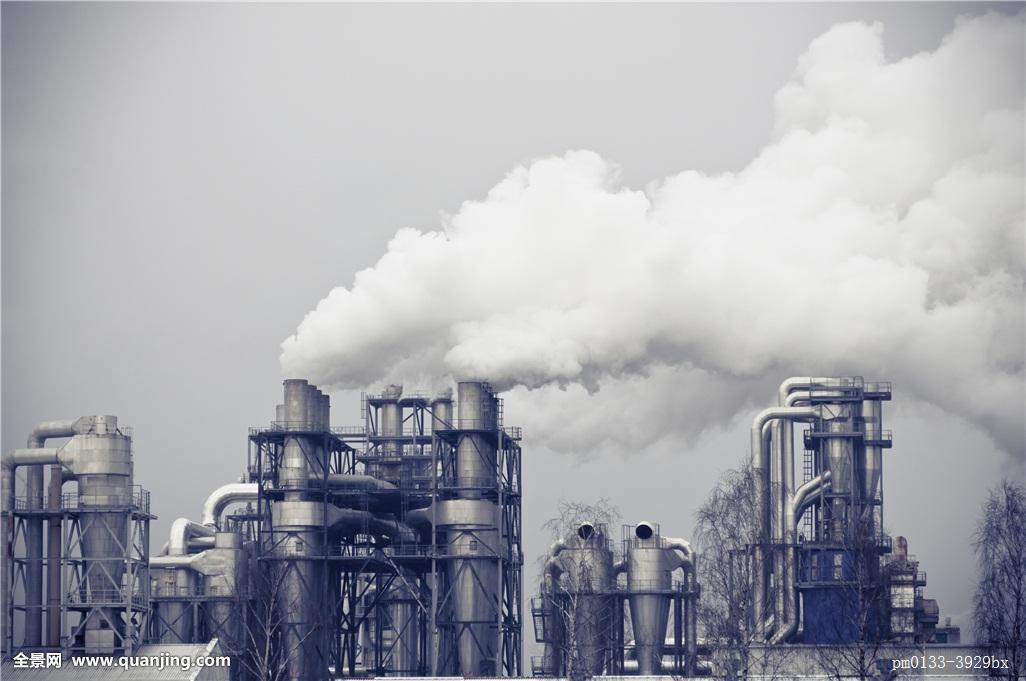dust: (263, 163, 588, 418), (439, 244, 735, 423)
